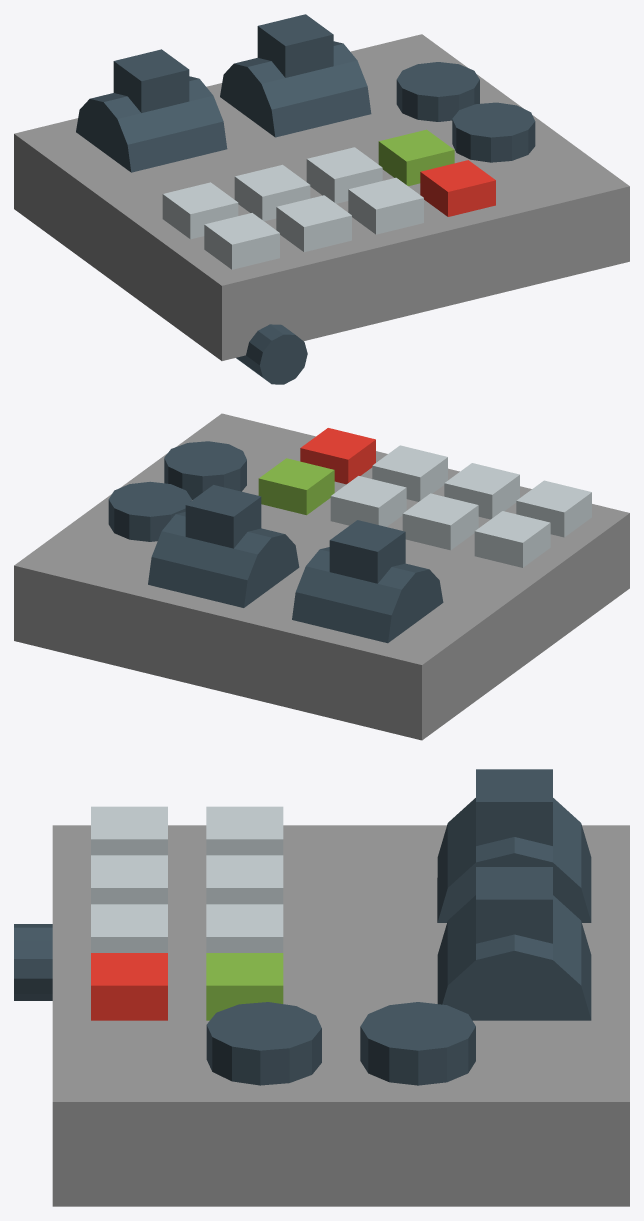
File: ControlPanel.glb
3 renders of one model, top to bottom at view 1: azimuth 30°, elevation 25°; view 2: azimuth 150°, elevation 25°; view 3: azimuth 270°, elevation 25°, orthographic. The views are drawn at different scales.
Visible parts, largest first — view 1: group1405848941, group128226319, group1445632883, group1780573564, group480546860, group1011640019; view 2: group1405848941, group1445632883, group128226319, group480546860, group1780573564; view 3: group1405848941, group128226319, group1445632883, group480546860, group1780573564, group1011640019.
Boxes of the visible parts, <box> form: group1405848941: <box>14,34,629,360</box>; group128226319: <box>220,14,371,137</box>; group1445632883: <box>76,49,227,172</box>; group1780573564: <box>452,102,535,162</box>; group480546860: <box>396,62,479,121</box>; group1011640019: <box>236,324,307,384</box>; group1405848941: <box>14,413,629,740</box>; group1445632883: <box>292,520,443,643</box>; group128226319: <box>148,485,299,607</box>; group480546860: <box>108,481,191,541</box>; group1780573564: <box>164,441,246,499</box>; group1405848941: <box>52,806,629,1206</box>; group128226319: <box>437,867,591,1020</box>; group1445632883: <box>437,769,591,922</box>; group480546860: <box>360,1002,475,1085</box>; group1780573564: <box>206,1002,321,1085</box>; group1011640019: <box>14,924,52,1000</box>.
Size of the model in its own units: 0.17 by 0.07 by 0.16.
